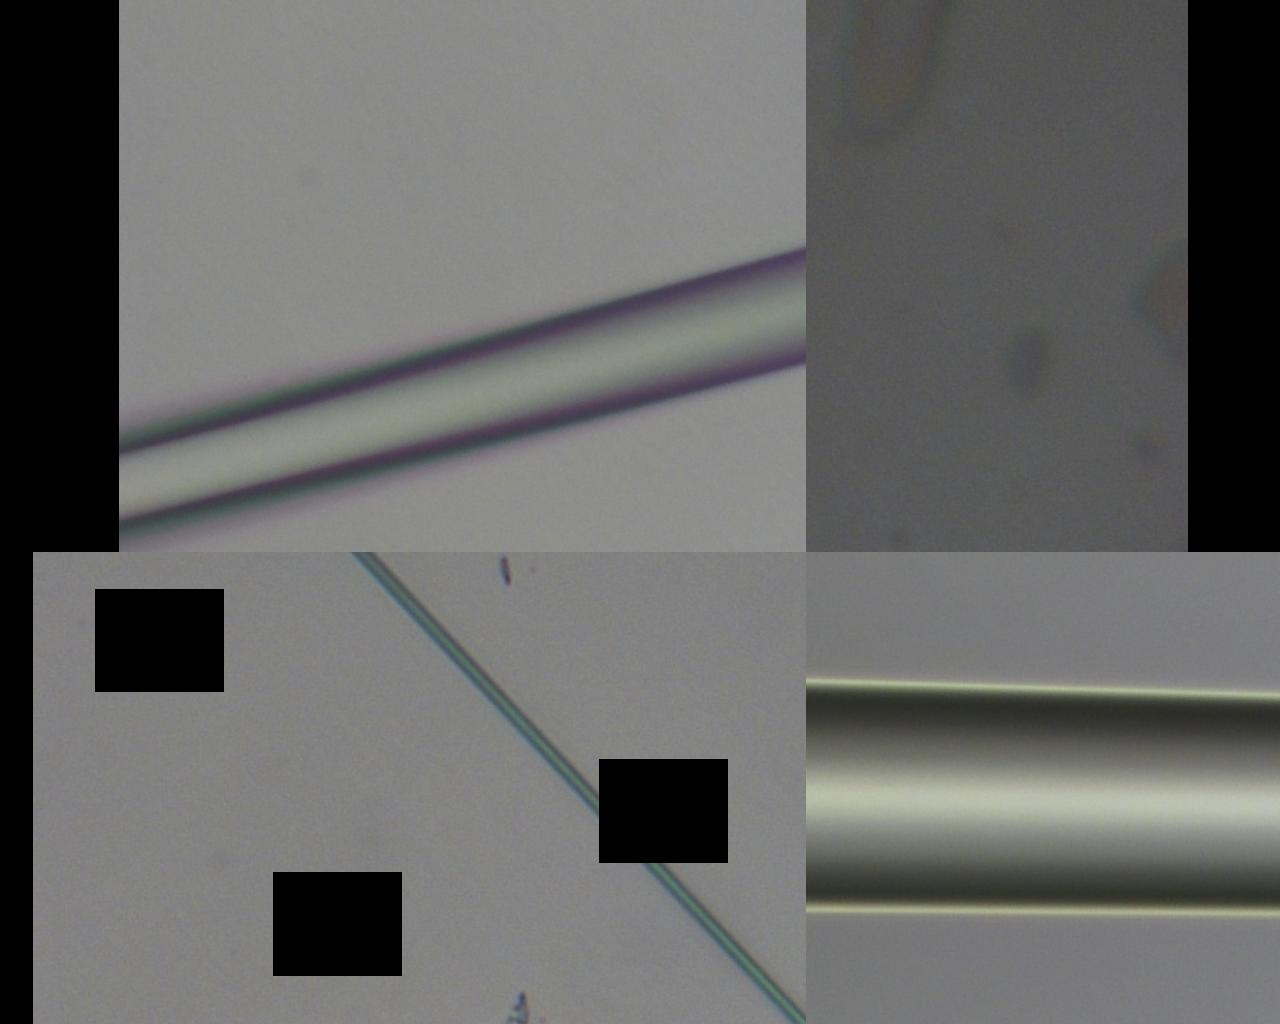fiber: (0, 14, 844, 466), (575, 501, 753, 1024), (1195, 0, 1280, 481), (939, 501, 986, 1024)
